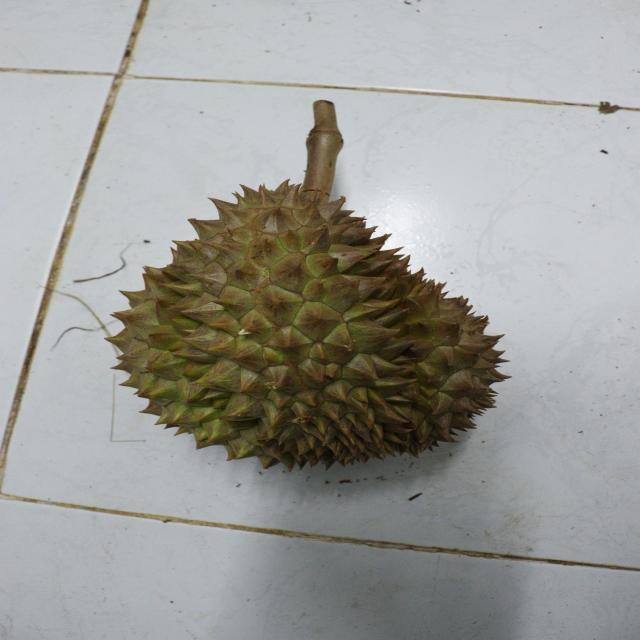mature: (104, 182, 510, 468)
